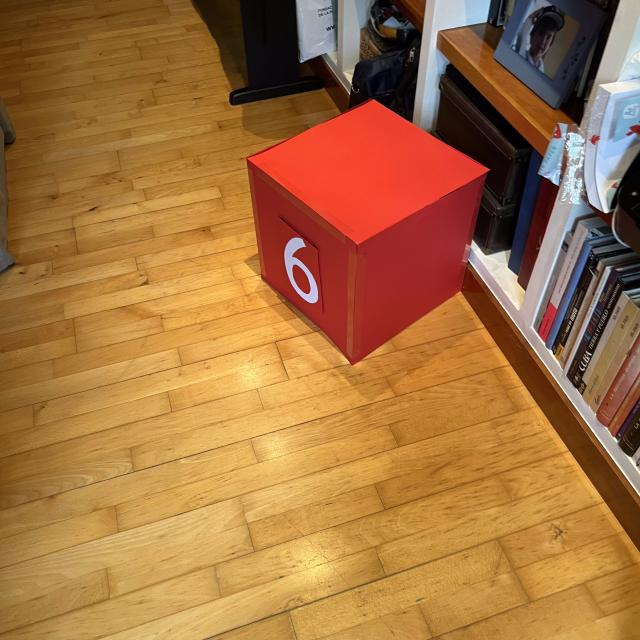box: (243, 96, 490, 366)
